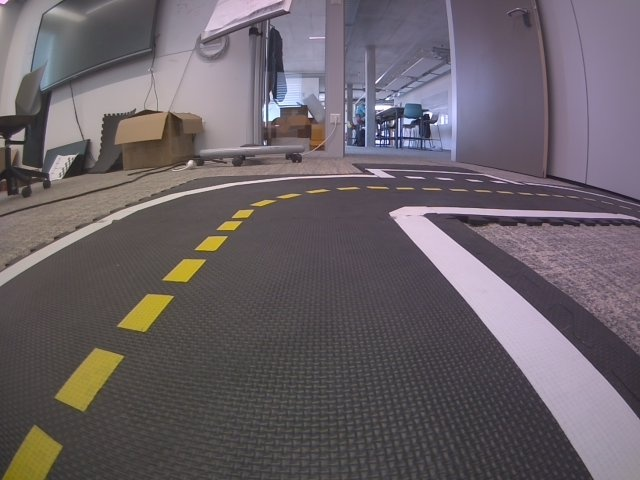freeSpot: (369, 169, 522, 186)
